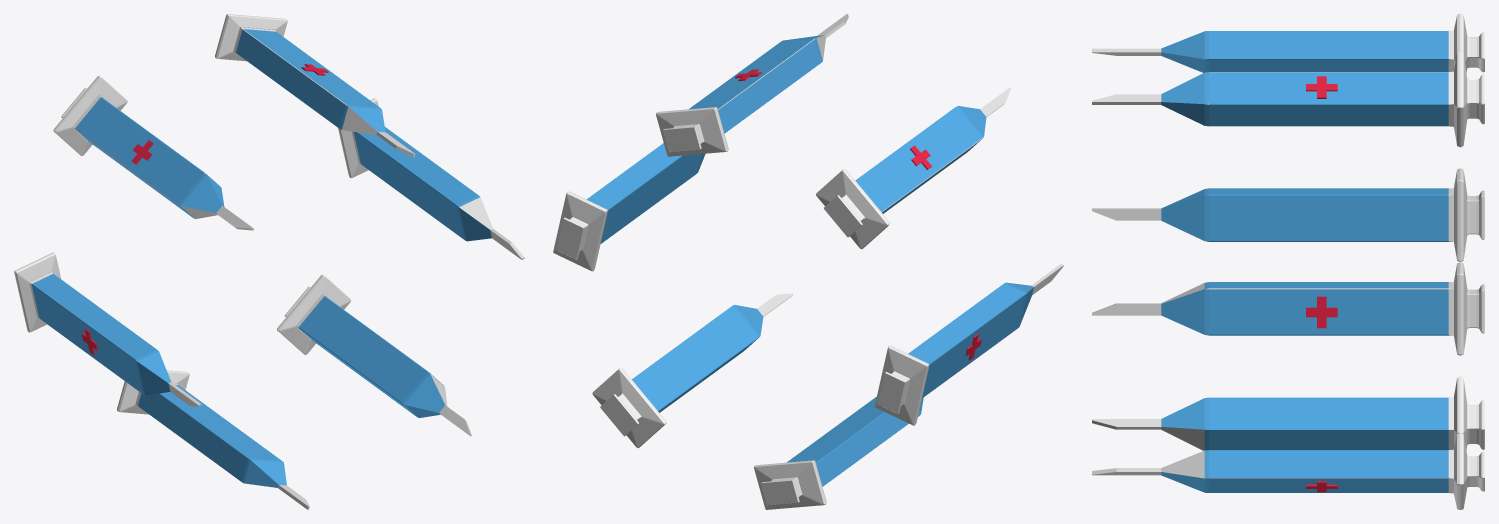
File: PacketStream_Rear.fbx
3 views of the same model, side by side, from view 1: azimuth 30°, elevation 25°; view 2: azimuth 150°, elevation 25°; view 3: azimuth 270°, elevation 25° (orthographic). The views are drawn at different scales.
Parts seen in each view (by area): view 1: PacketSteam_Rear; view 2: PacketSteam_Rear; view 3: PacketSteam_Rear.
Part boxes in pixels (x1,y1,x2,y2): PacketSteam_Rear: (14, 14, 524, 509); PacketSteam_Rear: (553, 14, 1063, 509); PacketSteam_Rear: (1092, 14, 1484, 509).
Size of the model in its own units: 149 by 148 by 117.
